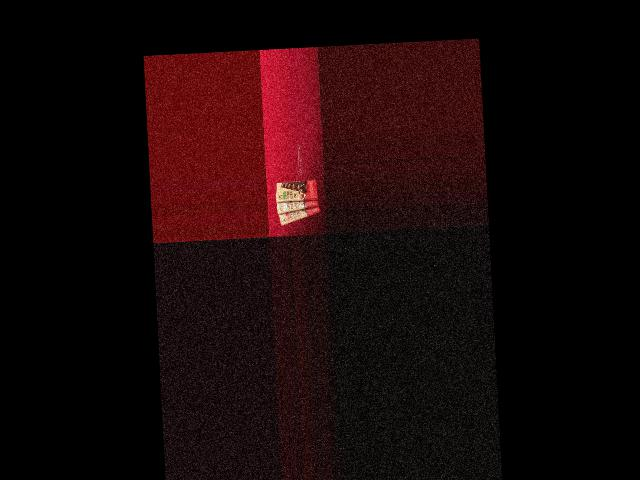chocolate: (275, 202, 322, 225)
